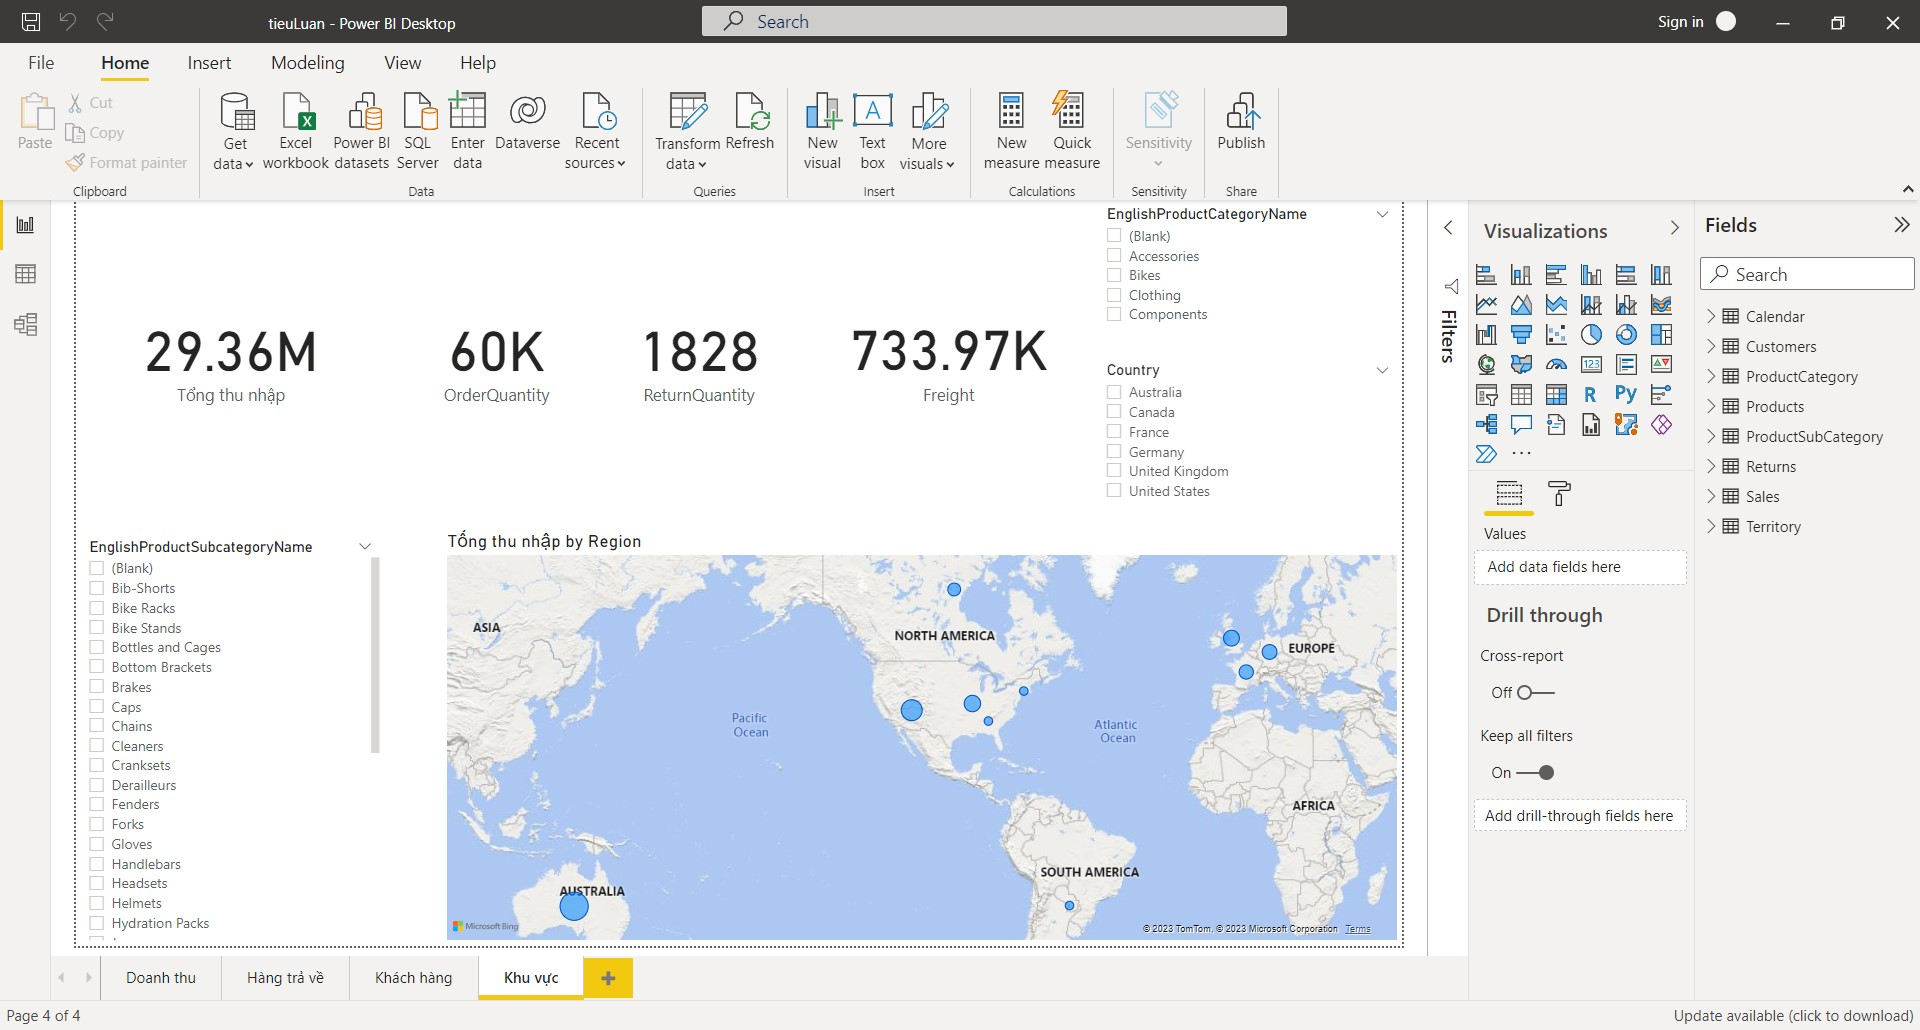

The dashboard page shown, as its layout file describes it:
{"tool":"powerbi","page":{"name":"Khu vực","canvas":[1280,720],"ordinal":3},"visuals":[{"type":"map","fields":{"Category":["Territory.Region"],"Size":["Sales.Tổng thu nhập"]},"box":[353.4,318.4,925.9,401.6],"z":0},{"type":"card","fields":{"Values":["Sales.Tổng thu nhập"]},"box":[0,0,299.4,299.4],"z":1000},{"type":"slicer","fields":{"Values":["ProductSubCategory.EnglishProductSubcategoryName"]},"box":[0,321.3,297.9,398.7],"z":2000},{"type":"slicer","fields":{"Values":["ProductCategory.EnglishProductCategoryName"]},"box":[981.4,0,297.9,150.4],"z":3000},{"type":"slicer","fields":{"Values":["Territory.Country"]},"box":[981.4,150.4,297.9,170.9],"z":4000},{"type":"card","fields":{"Values":["Sum(Sales.OrderQuantity)"]},"box":[297.9,0,216.1,299.4],"z":5000},{"type":"card","fields":{"Values":["Sum(Returns.ReturnQuantity)"]},"box":[500.9,0,201.5,299.4],"z":6000},{"type":"card","fields":{"Values":["Sum(Sales.Freight)"]},"box":[703,0,278,299],"z":7000}]}

Visuals, with their boxes on the page's 1280x720 design canvas (x1, y1, x2, y2). These are canvas units, not pixel positions in the 1920x1030 screenshot, which may show the page scaled, cropped or inside an application window:
map - Territory.Region x Sales.Tổng thu nhập: <region>353, 318, 1279, 720</region>
card - Sales.Tổng thu nhập: <region>0, 0, 299, 299</region>
slicer - ProductSubCategory.EnglishProductSubcategoryName: <region>0, 321, 298, 720</region>
slicer - ProductCategory.EnglishProductCategoryName: <region>981, 0, 1279, 150</region>
slicer - Territory.Country: <region>981, 150, 1279, 321</region>
card - Sum(Sales.OrderQuantity): <region>298, 0, 514, 299</region>
card - Sum(Returns.ReturnQuantity): <region>501, 0, 702, 299</region>
card - Sum(Sales.Freight): <region>703, 0, 981, 299</region>
